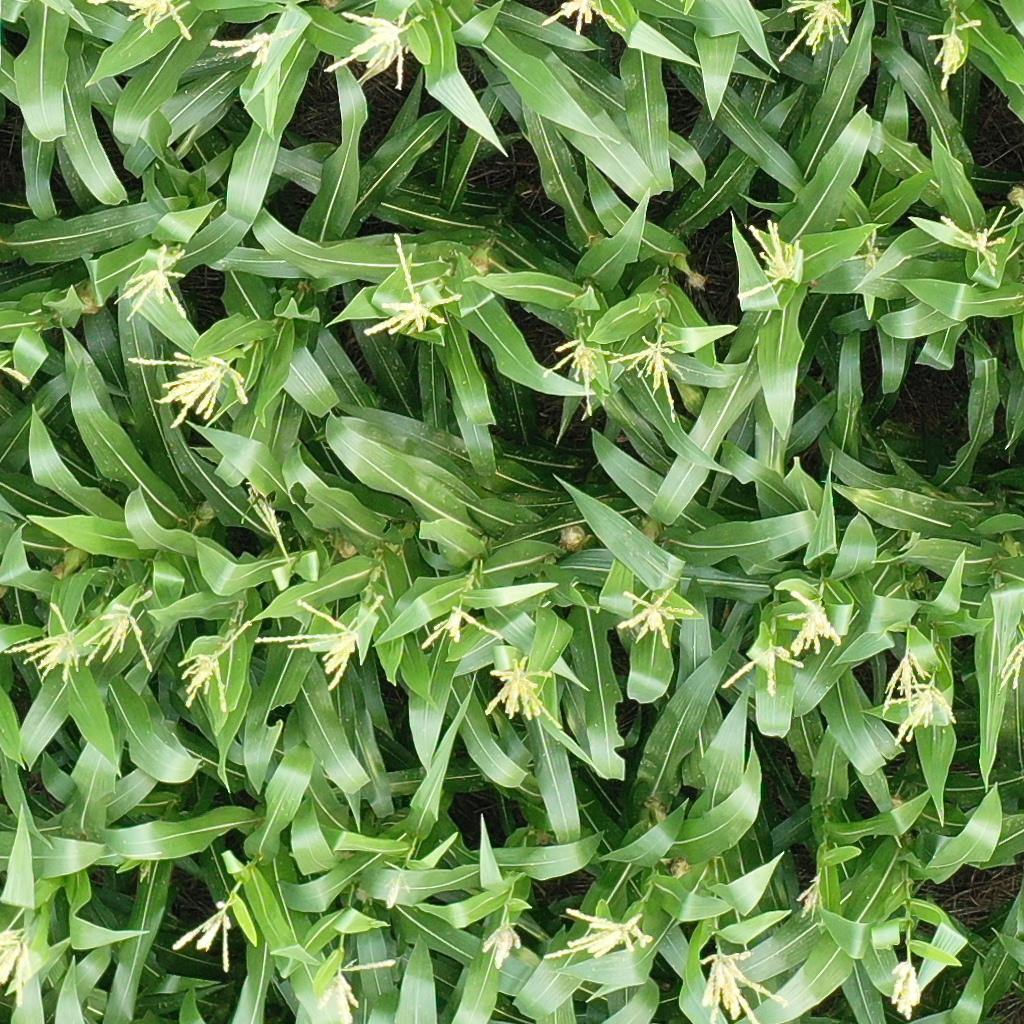Tassel: (255, 594, 386, 693), (357, 232, 464, 337), (125, 342, 252, 429), (318, 7, 427, 92), (176, 617, 255, 715), (541, 900, 655, 965), (605, 336, 690, 423), (697, 948, 788, 1024), (2, 603, 85, 684), (483, 655, 567, 732), (82, 589, 157, 675), (113, 243, 193, 322), (541, 340, 623, 417), (935, 199, 1011, 279), (167, 895, 240, 975), (736, 218, 805, 301), (772, 1, 859, 64), (317, 956, 396, 1024), (418, 599, 507, 658), (615, 584, 699, 645), (886, 675, 958, 746), (923, 17, 984, 95), (783, 585, 847, 657), (721, 644, 809, 695), (205, 28, 301, 67), (881, 652, 934, 721), (240, 480, 289, 552), (1, 919, 39, 1010), (538, 1, 629, 38), (113, 1, 196, 40), (482, 919, 525, 971), (891, 957, 925, 1020), (793, 869, 829, 923), (846, 223, 883, 270), (996, 632, 1024, 691), (378, 861, 409, 909), (1, 357, 30, 384)
